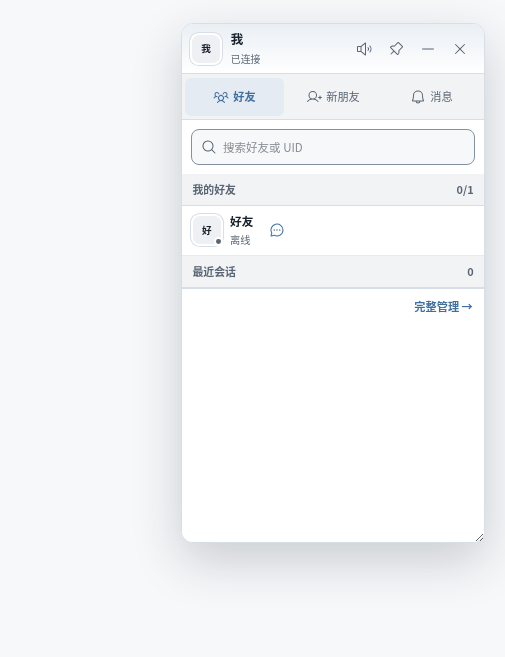
offers chat instead of another request for an accepted friend found by UID
Click the button "新朋友" at [333, 97], box [284,78,382,116]
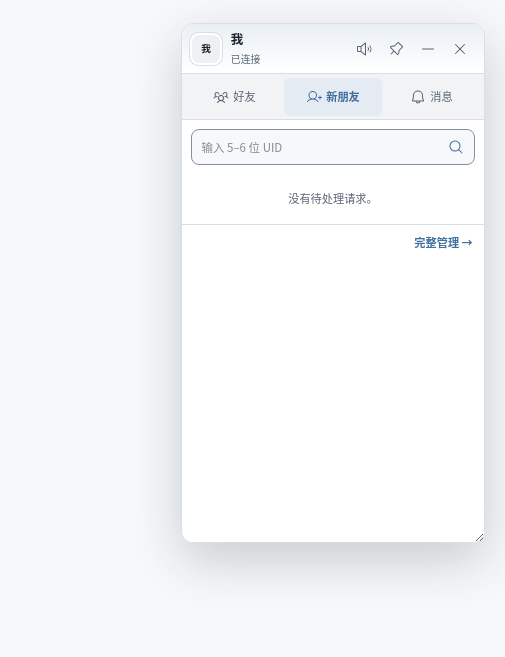
Type "12346" into the field named "搜索好友 UID" at [315, 147], box [192,130,438,164]
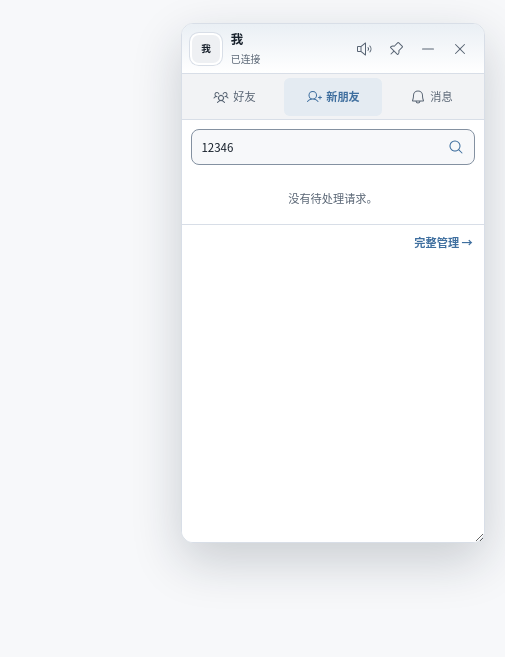
Click the button named "搜索" at [456, 147], box [438,130,474,164]
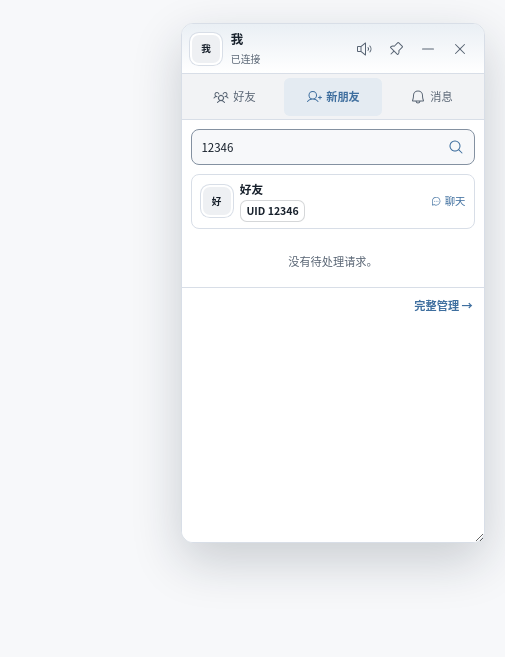
Click the button "聊天" at [448, 201], box [431,193,465,210]
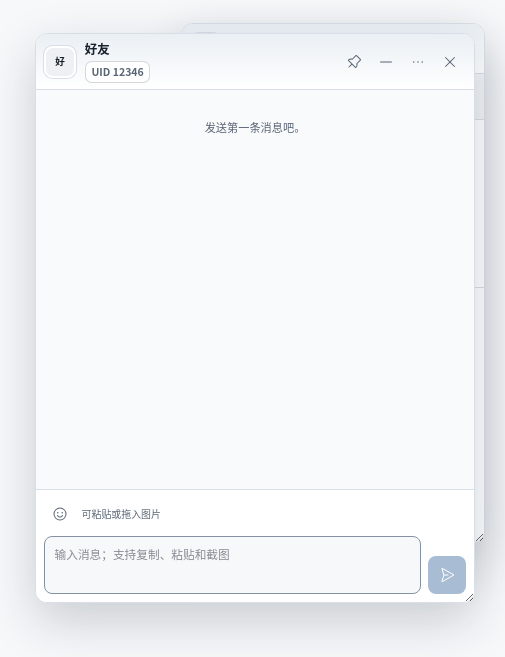
Check: the element named "与好友聊天" is shown
